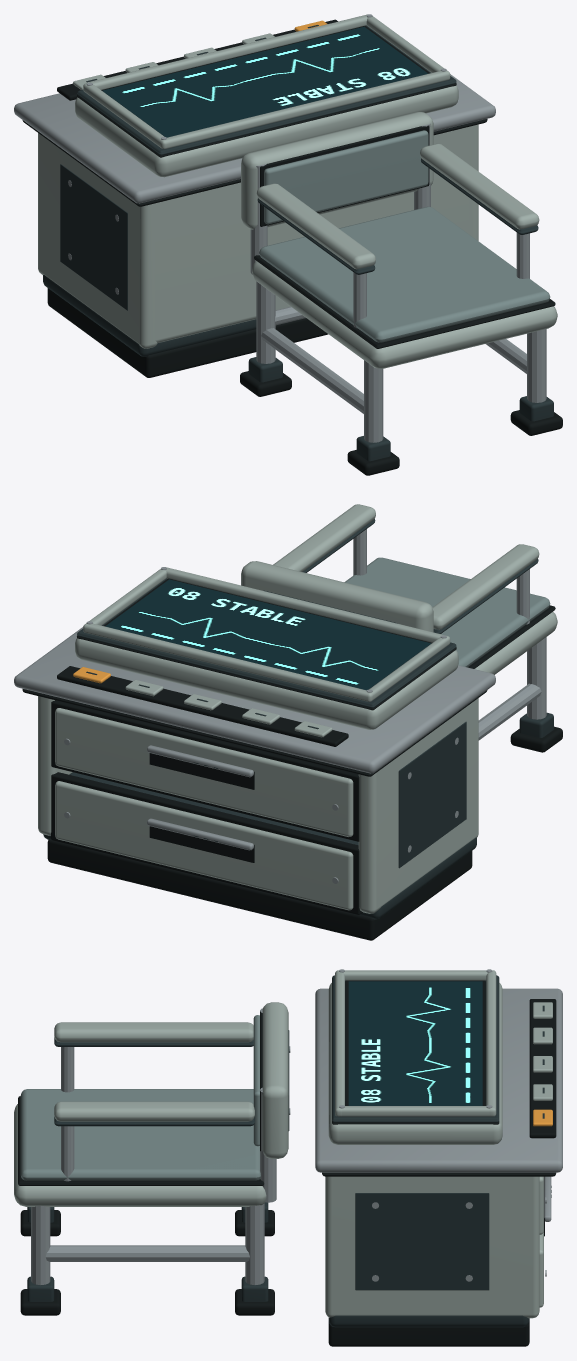
Rendered from recovery-kit.glb.
3 renders of one model, top to bottom at view 1: azimuth 30°, elevation 25°; view 2: azimuth 150°, elevation 25°; view 3: azimuth 270°, elevation 25°, orthographic.
Parts seen in each view (by area): view 1: Batch 01 warm ceramic enamel, Batch Washable recovery upholstery, Batch 03 satin stainless, Batch Recovery LCD original 512x256 atlas, Batch 02 graphite powdercoat, Batch 04 EPDM gasket; view 2: Batch 01 warm ceramic enamel, Batch 04 EPDM gasket, Batch 03 satin stainless, Batch Recovery LCD original 512x256 atlas, Batch 02 graphite powdercoat, Batch Washable recovery upholstery; view 3: Batch 01 warm ceramic enamel, Batch 03 satin stainless, Batch 02 graphite powdercoat, Batch Washable recovery upholstery, Batch Recovery LCD original 512x256 atlas, Batch 04 EPDM gasket.
Boxes of the visible parts, x1,y1,x2,y2 form: Batch 01 warm ceramic enamel: (38,14,557,368); Batch Washable recovery upholstery: (259,130,550,342); Batch 03 satin stainless: (14,14,546,442); Batch Recovery LCD original 512x256 atlas: (102,26,428,137); Batch 02 graphite powdercoat: (43,25,553,461); Batch 04 EPDM gasket: (22,19,562,475); Batch 01 warm ceramic enamel: (38,504,557,913); Batch 04 EPDM gasket: (22,578,562,940); Batch 03 satin stainless: (14,529,546,883); Batch Recovery LCD original 512x256 atlas: (105,579,430,690); Batch 02 graphite powdercoat: (43,519,553,919); Batch Washable recovery upholstery: (344,557,550,667); Batch 01 warm ceramic enamel: (14,970,552,1318); Batch 03 satin stainless: (31,969,562,1284); Batch 02 graphite powdercoat: (27,975,551,1327); Batch Washable recovery upholstery: (20,1015,260,1180); Batch Recovery LCD original 512x256 atlas: (348,981,482,1105); Batch 04 EPDM gasket: (18,980,556,1346).
Size of the model in its own units: 1.94 by 1.19 by 2.56.
Materials: 7 (5 with a texture image).
